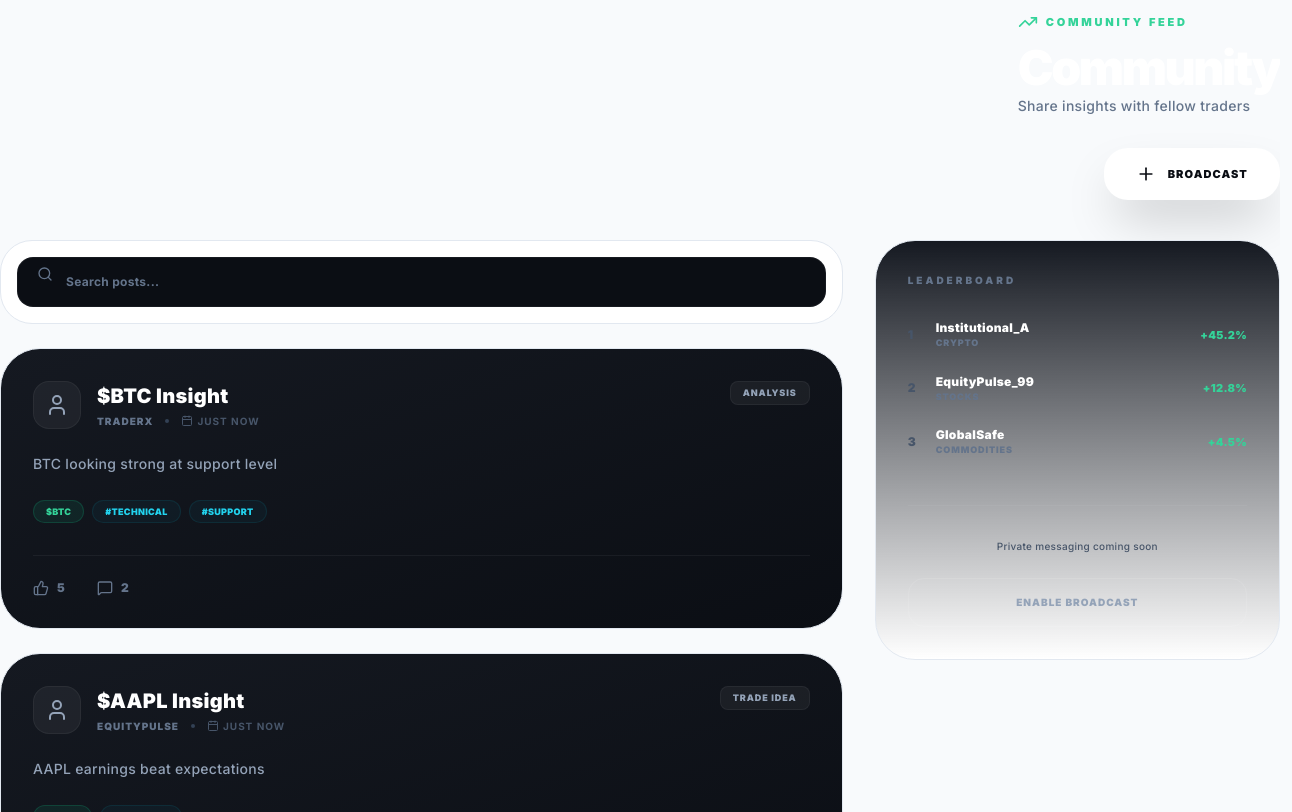
Scenario: Community › toggles comments section when comment button is clicked
Expected: the text "BTC looking strong at support level" is shown, [33,455,277,472]
Step 1. Click the button "2" → (113, 588), box [97,580,129,596]
(page scrolled)
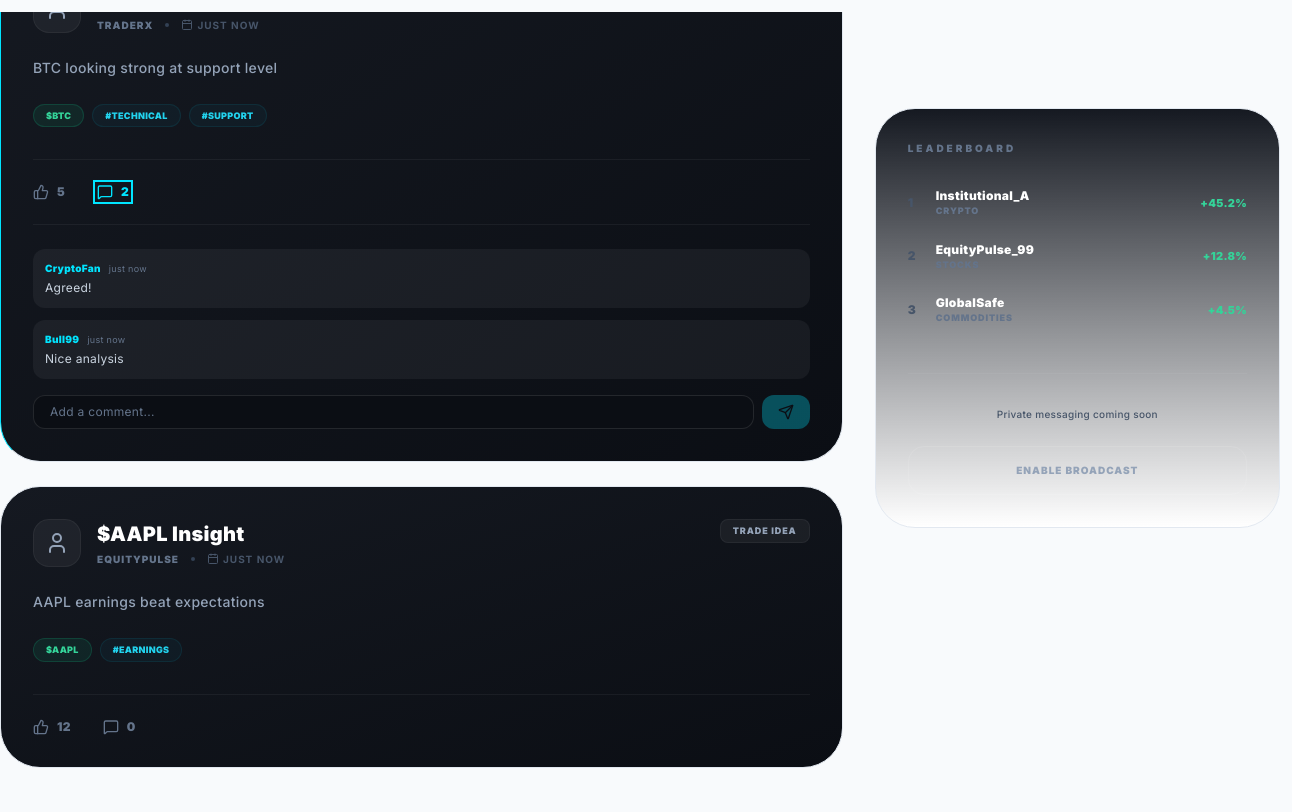
Expected: the text "Agreed!" is shown, [45,280,92,295]
Expected: the text "Nice analysis" is shown, [45,351,124,366]
Expected: the field with placeholder "Add a comment..." is shown, [33,395,754,429]
